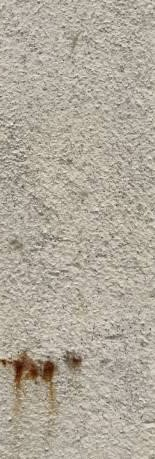Corrosion: (1, 349, 54, 416), (63, 351, 83, 369)
